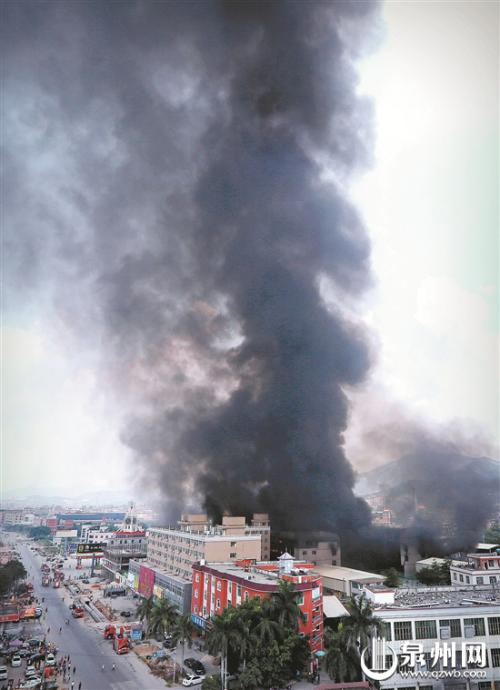smoke: (62, 10, 398, 521)
